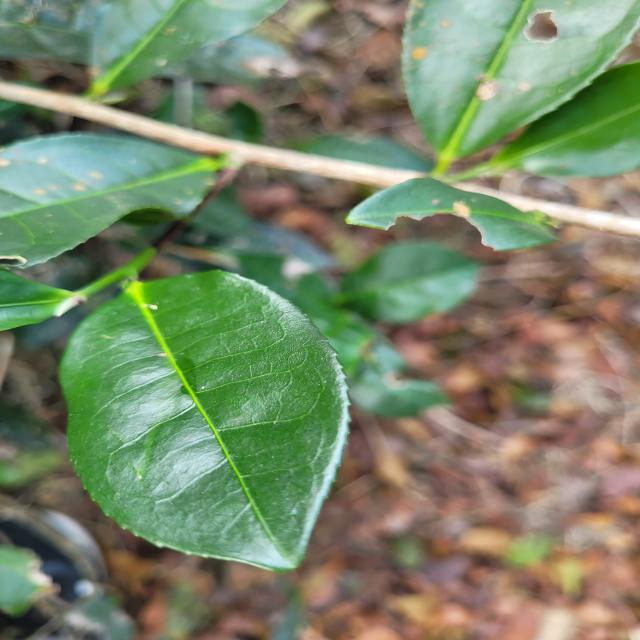Category D(7+ days, Not for Tea): (47, 254, 370, 588)
